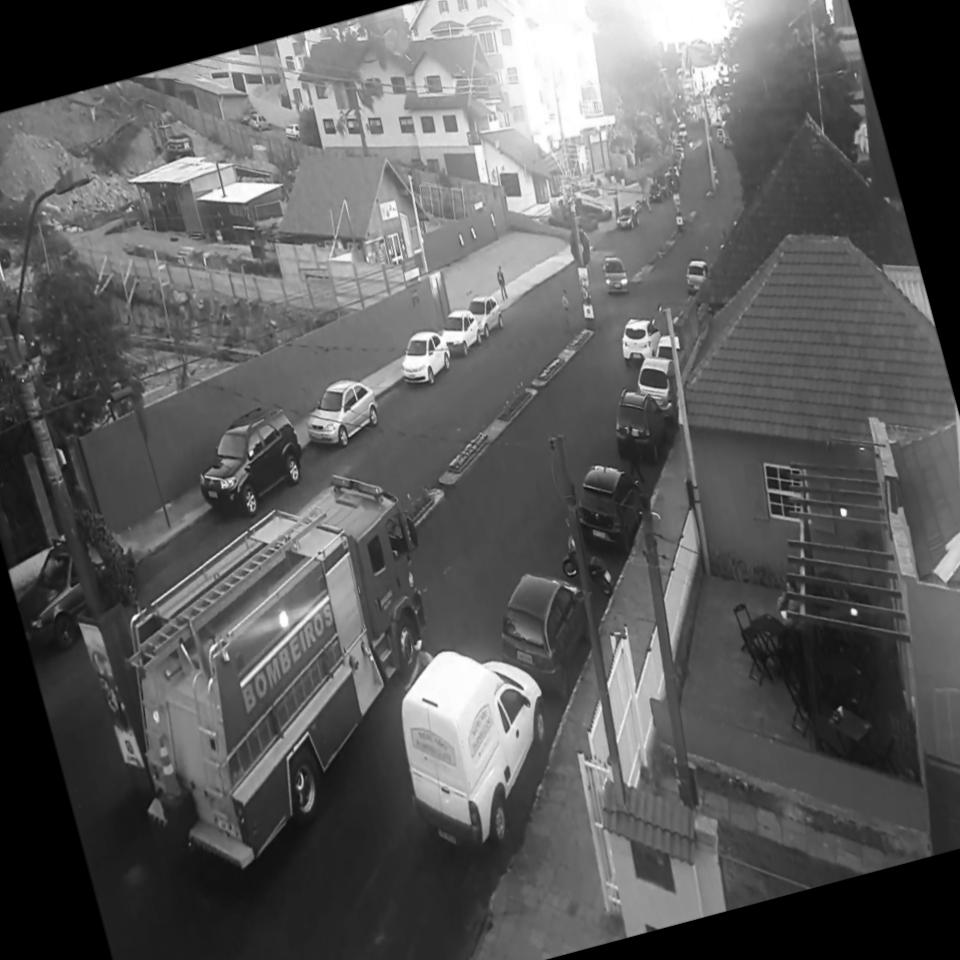viatura: (74, 454, 491, 888)
